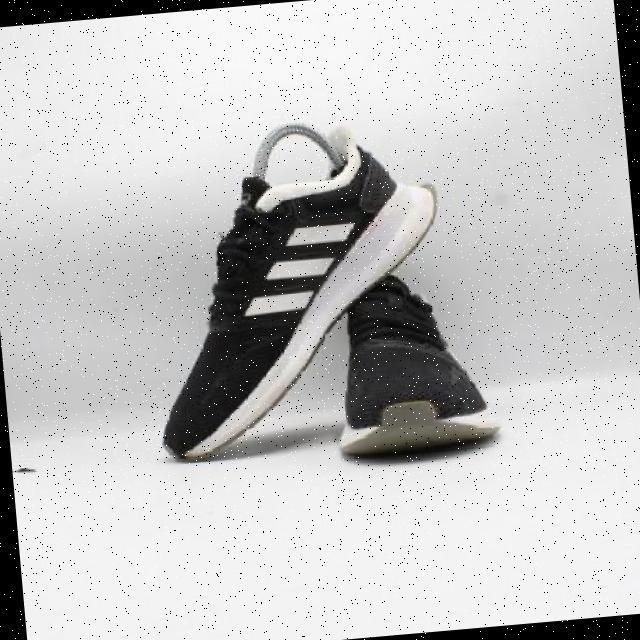Adidas: (235, 211, 363, 327)
